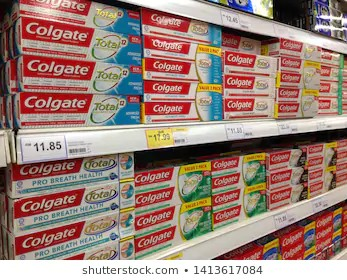colgate-family: (134, 160, 210, 215), (208, 154, 267, 188)
colgate-medium: (7, 177, 138, 236), (4, 153, 137, 197), (13, 91, 142, 131), (15, 54, 143, 93), (16, 16, 144, 55), (140, 31, 219, 66), (142, 56, 223, 82), (143, 9, 229, 33), (143, 80, 222, 99), (144, 101, 223, 120), (223, 53, 279, 77), (223, 71, 279, 95), (223, 96, 279, 120)
